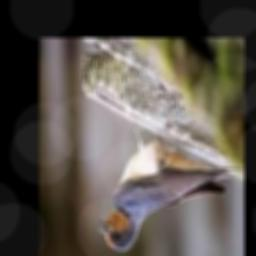Swallow: (97, 122, 230, 250)
